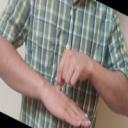hand: (43, 85, 95, 128), (56, 49, 93, 97)
